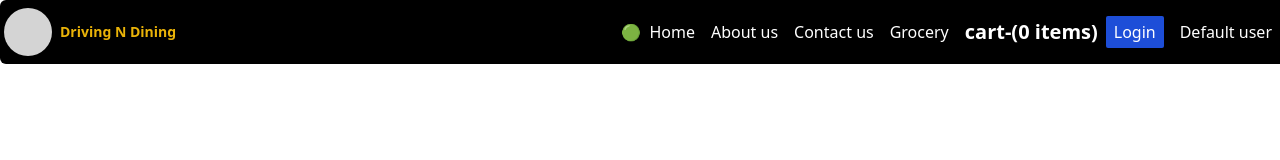
Should change Logout button to Login on click
The image size is (1280, 160).
Click the button "Login": (1135,32) [1106,16,1164,48]
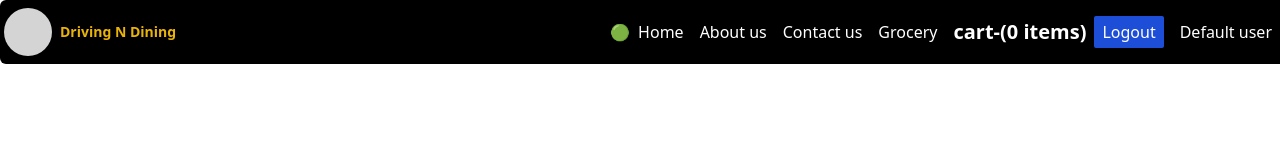
Click the button "Logout": (1129,32) [1094,16,1164,48]
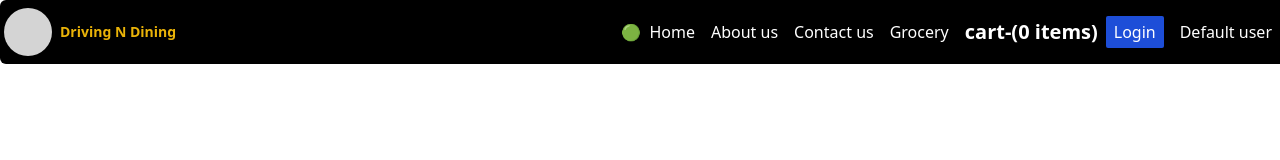
Expected: the button "Login" is shown, [1106,16,1164,48]
